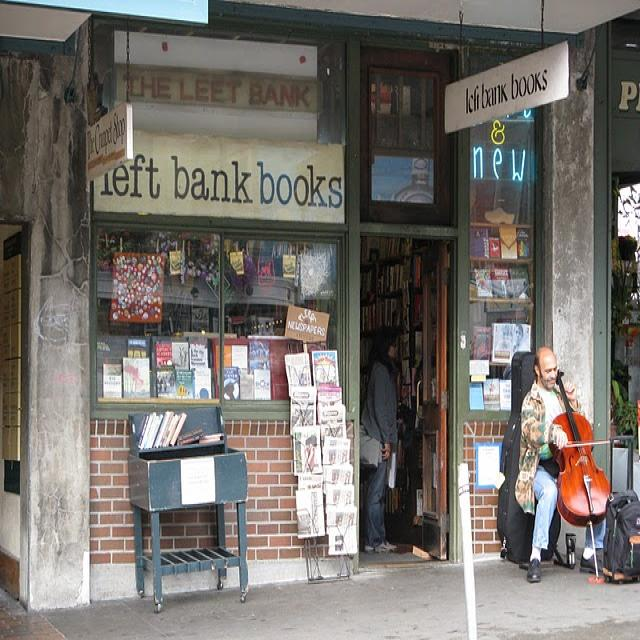cello: (548, 368, 613, 528)
